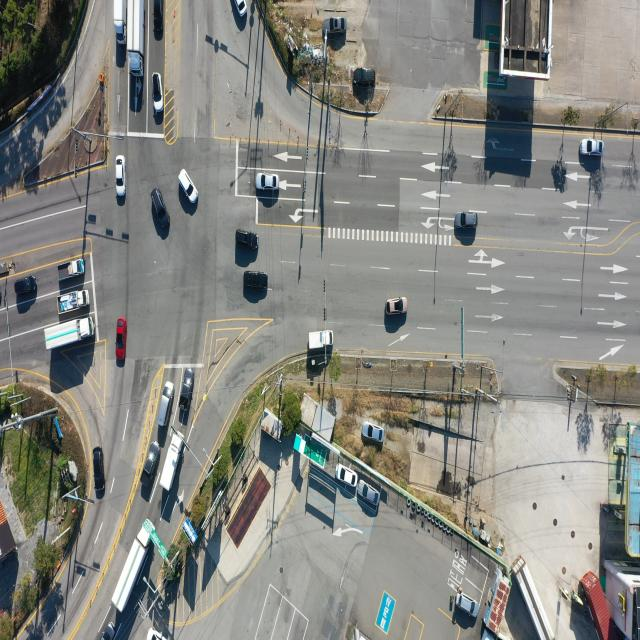car: (150, 187, 170, 232), (158, 382, 174, 428), (142, 442, 160, 482), (178, 168, 198, 203), (178, 367, 193, 412), (93, 446, 106, 492), (358, 482, 380, 508), (456, 593, 480, 616), (336, 463, 358, 487), (15, 275, 38, 296), (244, 272, 268, 292), (117, 314, 127, 362), (236, 230, 259, 250), (114, 155, 125, 196), (153, 0, 164, 40), (256, 172, 279, 190), (353, 67, 376, 85), (152, 73, 162, 113), (362, 423, 383, 442), (456, 211, 478, 229), (582, 138, 604, 156), (144, 624, 168, 640), (384, 296, 405, 314), (135, 79, 144, 114), (327, 18, 346, 34), (234, 0, 248, 18), (101, 621, 114, 640)
medium_truck: (114, 516, 156, 614), (518, 556, 557, 638), (45, 316, 95, 354), (158, 432, 184, 495), (127, 0, 148, 74)
small_truck: (59, 288, 90, 313), (58, 260, 86, 282), (307, 330, 332, 353), (112, 0, 126, 41)
